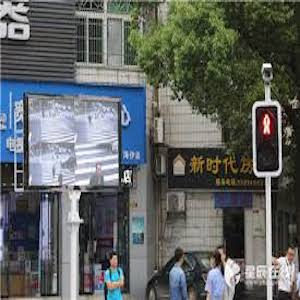red: (258, 113, 278, 141)
